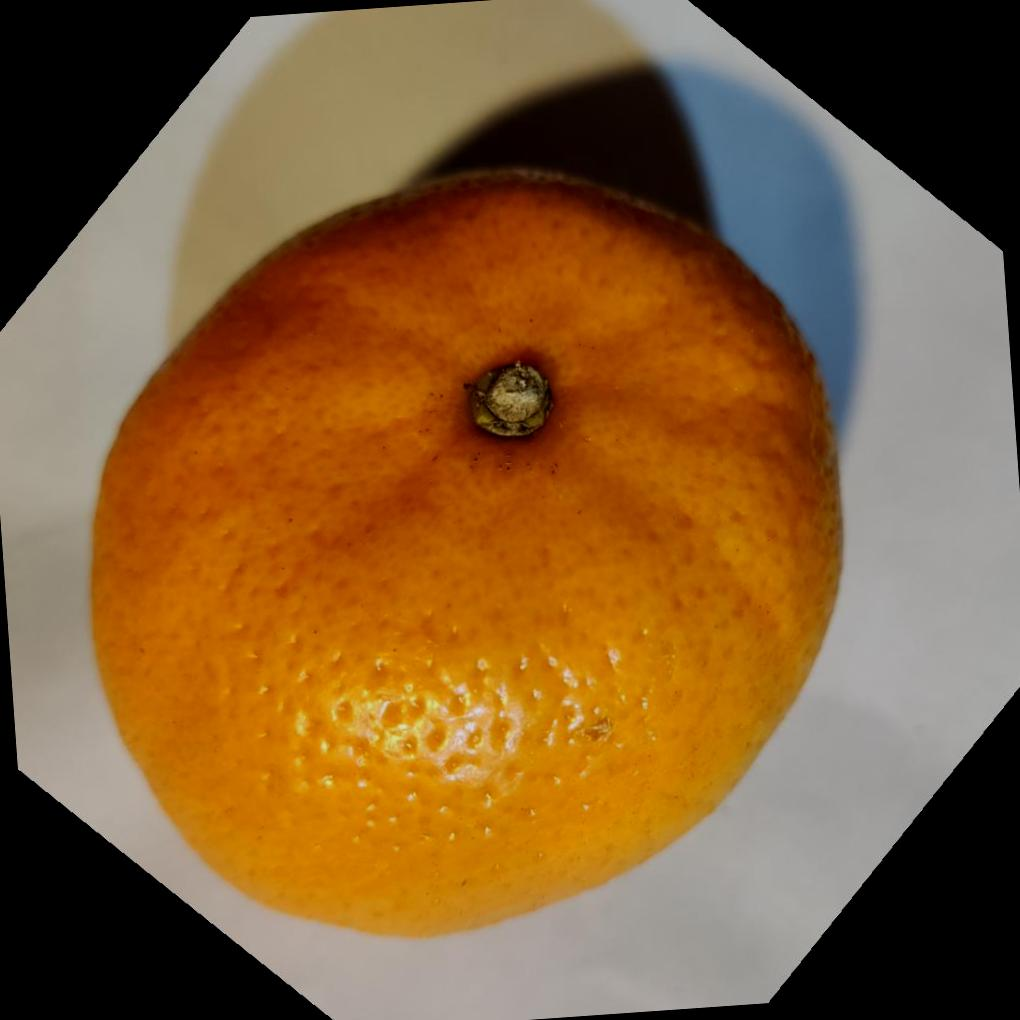FreshGuava: (82, 165, 842, 940)
